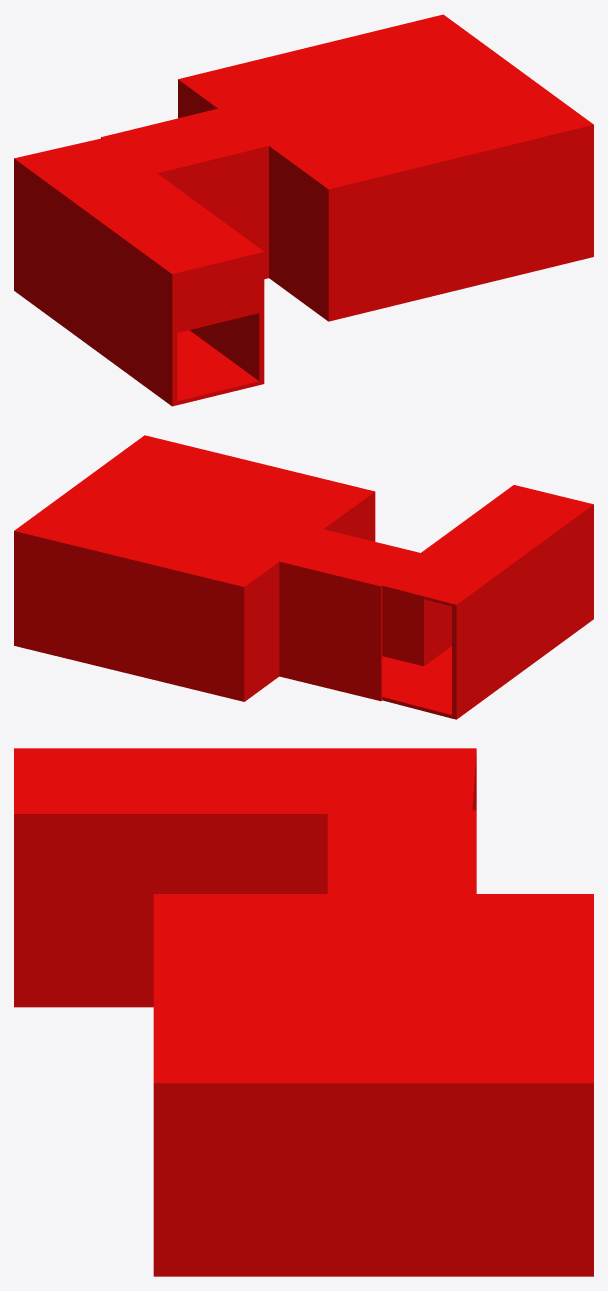
Rendered from Scale.fbx.
The picture shows the model from 3 angles, top to bottom: view 1: azimuth 30°, elevation 25°; view 2: azimuth 150°, elevation 25°; view 3: azimuth 270°, elevation 25°; orthographic projection. The views are drawn at different scales.
Parts seen in each view (by area): view 1: CinemaPosterIn001, Cell001; view 2: CinemaPosterIn001, Cell001; view 3: Cell001, CinemaPosterIn001.
Part boxes in pixels (left/top/right/bottom): CinemaPosterIn001: left=14, top=82, right=593, bottom=406; Cell001: left=14, top=14, right=593, bottom=277; CinemaPosterIn001: left=14, top=494, right=593, bottom=719; Cell001: left=14, top=435, right=593, bottom=607; Cell001: left=14, top=748, right=593, bottom=1087; CinemaPosterIn001: left=14, top=758, right=593, bottom=1276.
Bounding box in the file's own units: 672 × 181 × 492.
